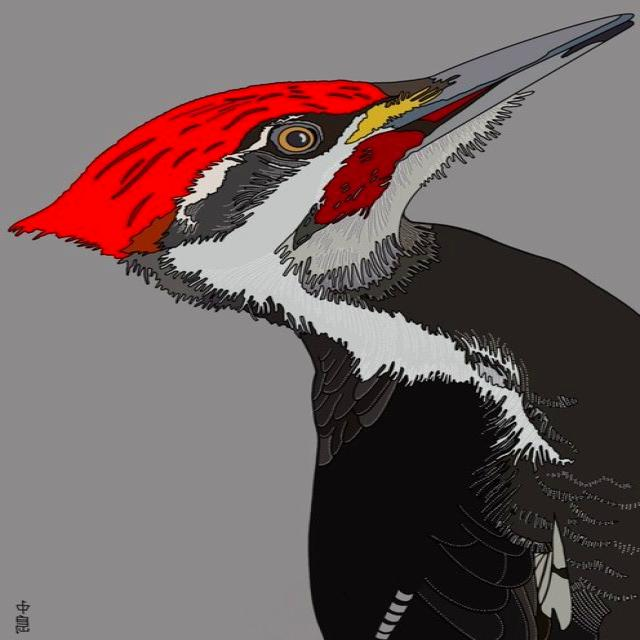woodpecker: (10, 14, 640, 639)
